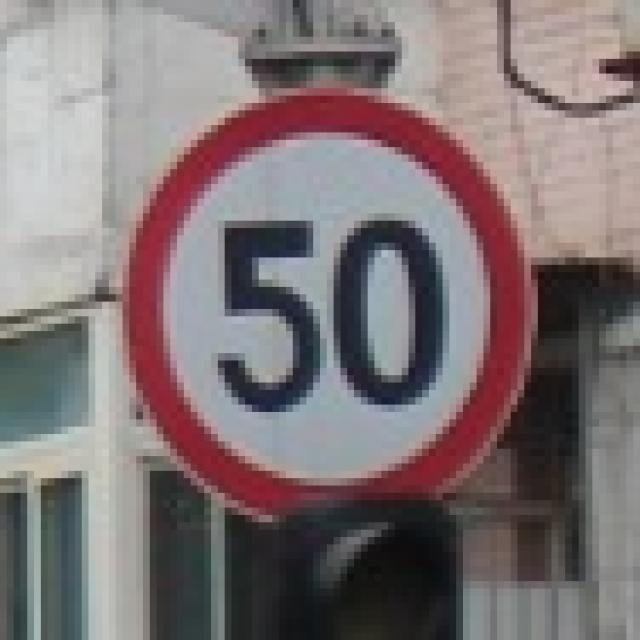Speed Limit -50-: (210, 211, 454, 423)
